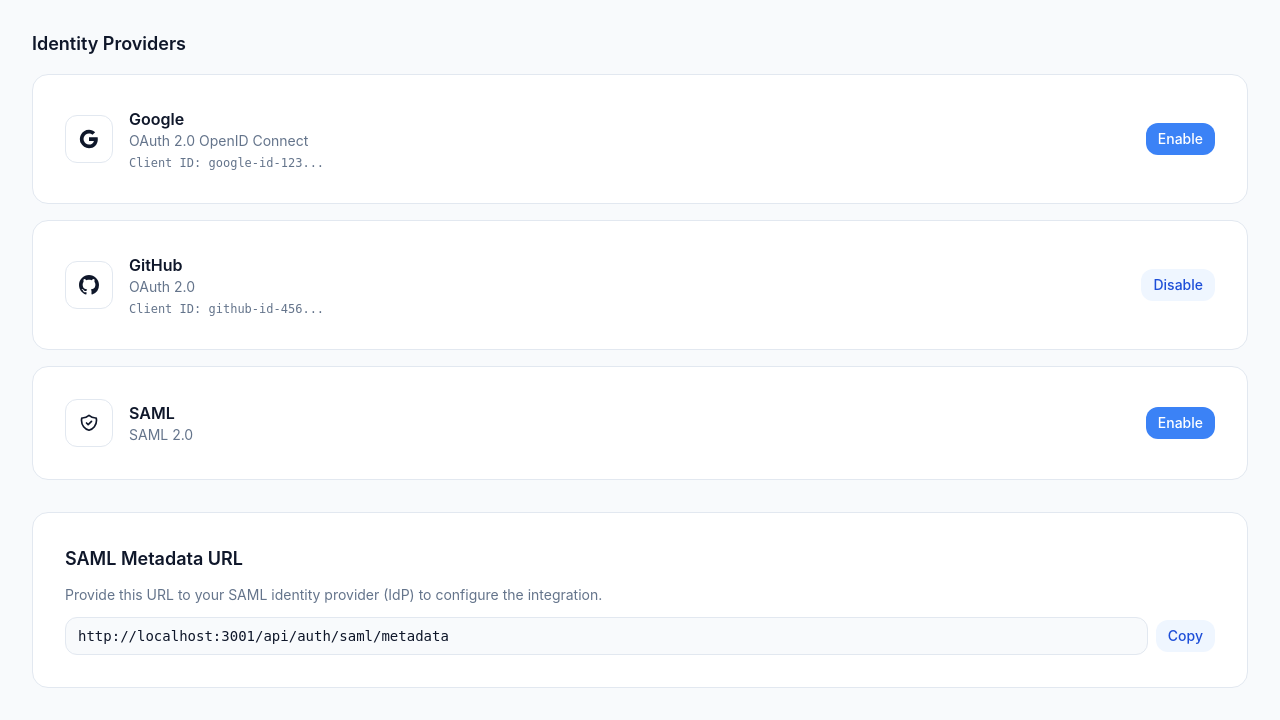
Test: SSOSettings › has copy metadata URL button
(page scrolled)
Expected: the heading "SAML Metadata URL" is shown, [65, 548, 243, 569]
Click the button with aria-label "Copy metadata URL".
click(1185, 636)  # box [1156, 620, 1215, 652]
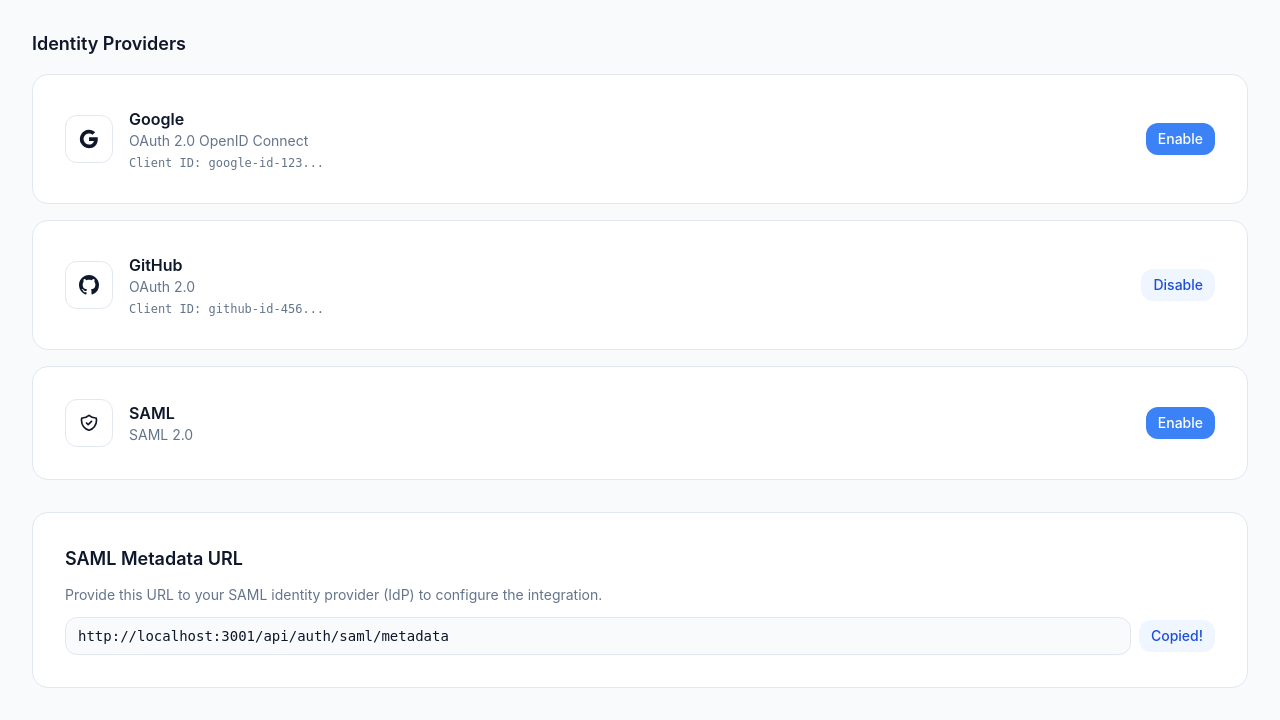
Expected: the button "Copied!" is shown, [1139, 620, 1215, 652]
